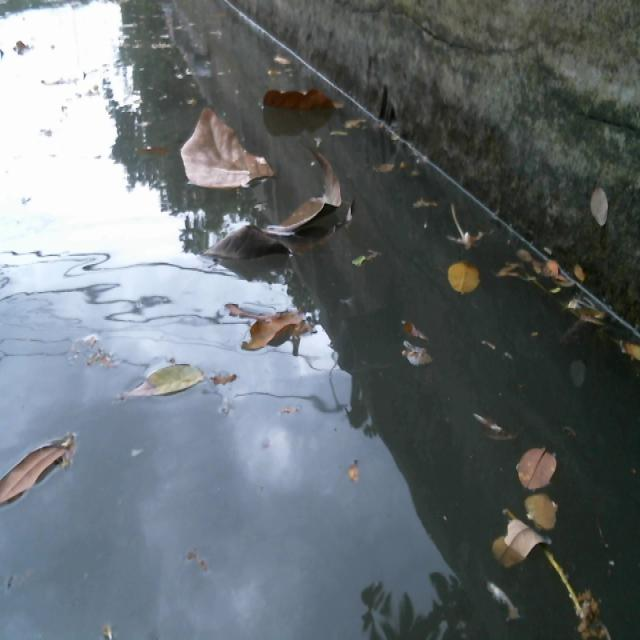Big-leaf: (212, 147, 348, 272), (169, 97, 276, 213), (245, 67, 348, 116)
Small-leaf: (0, 411, 85, 518), (235, 275, 318, 364), (120, 350, 227, 412), (431, 238, 502, 313), (489, 519, 557, 586), (517, 437, 577, 501), (398, 299, 442, 371), (517, 494, 563, 541), (612, 329, 640, 396)
